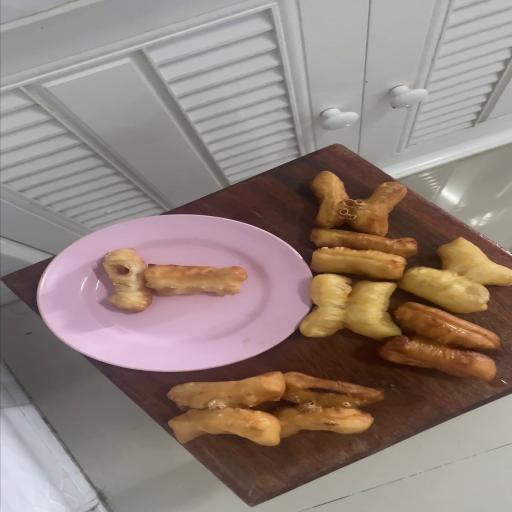street_burnt_defect: (146, 264, 250, 296)
street_golden_defect: (168, 371, 383, 446)
